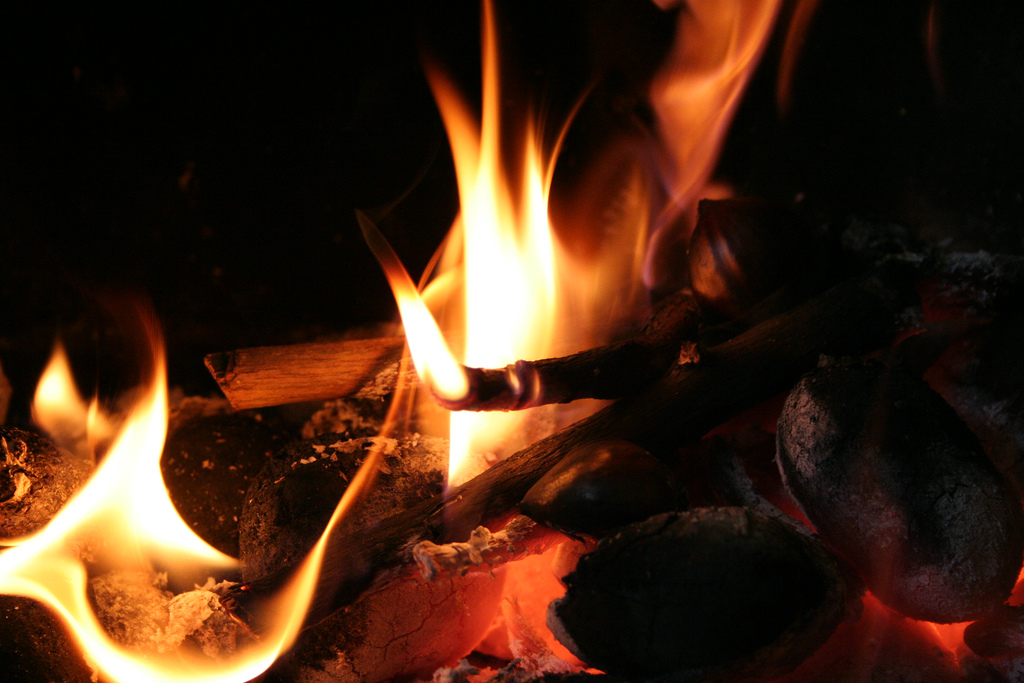fire: (13, 13, 770, 683)
